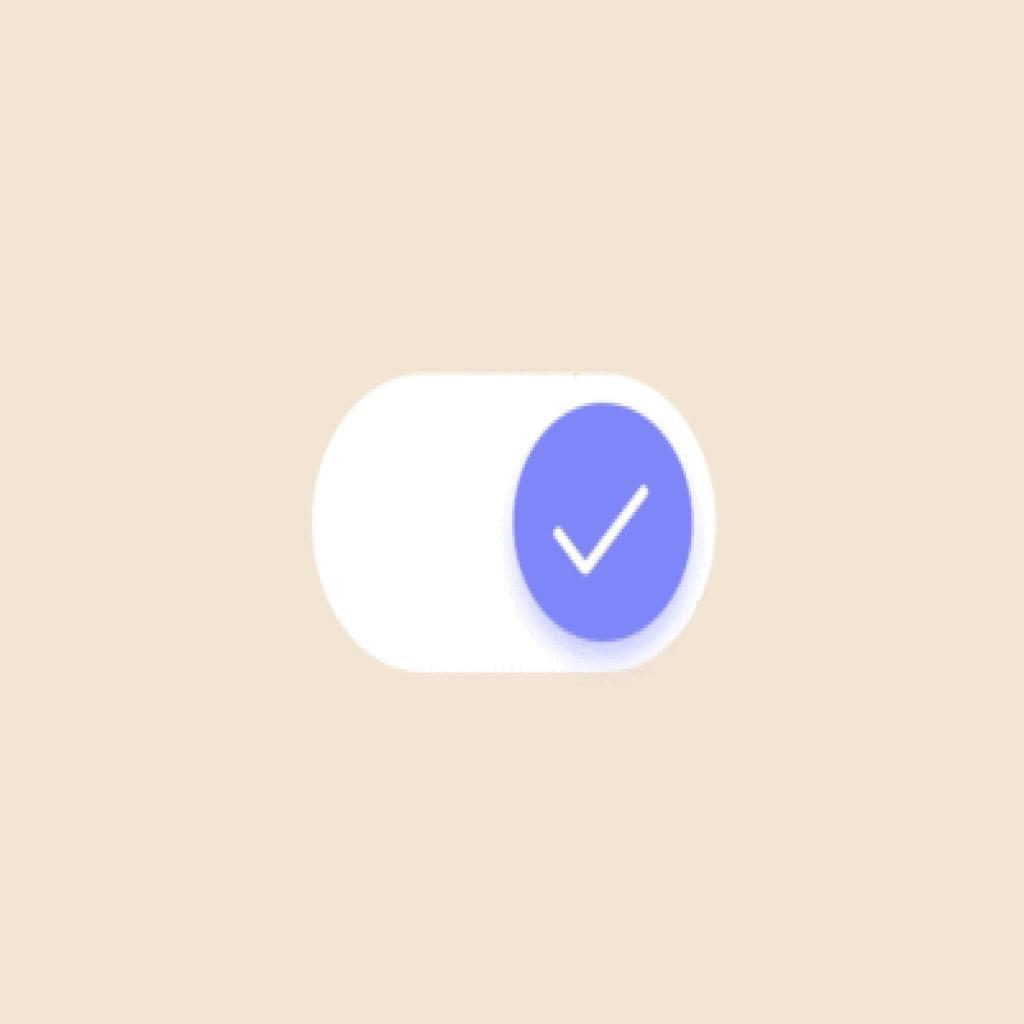switch: (310, 374, 717, 679)
